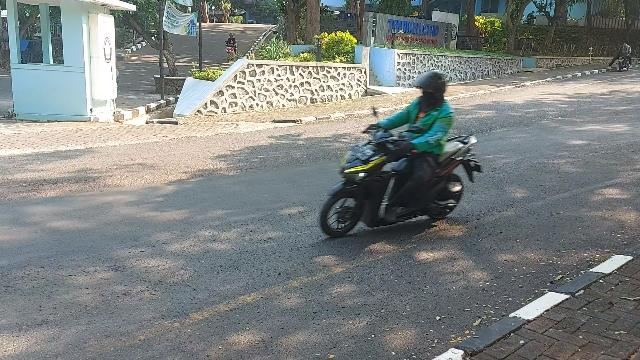helm: (413, 72, 446, 101)
motor: (321, 110, 484, 239)
